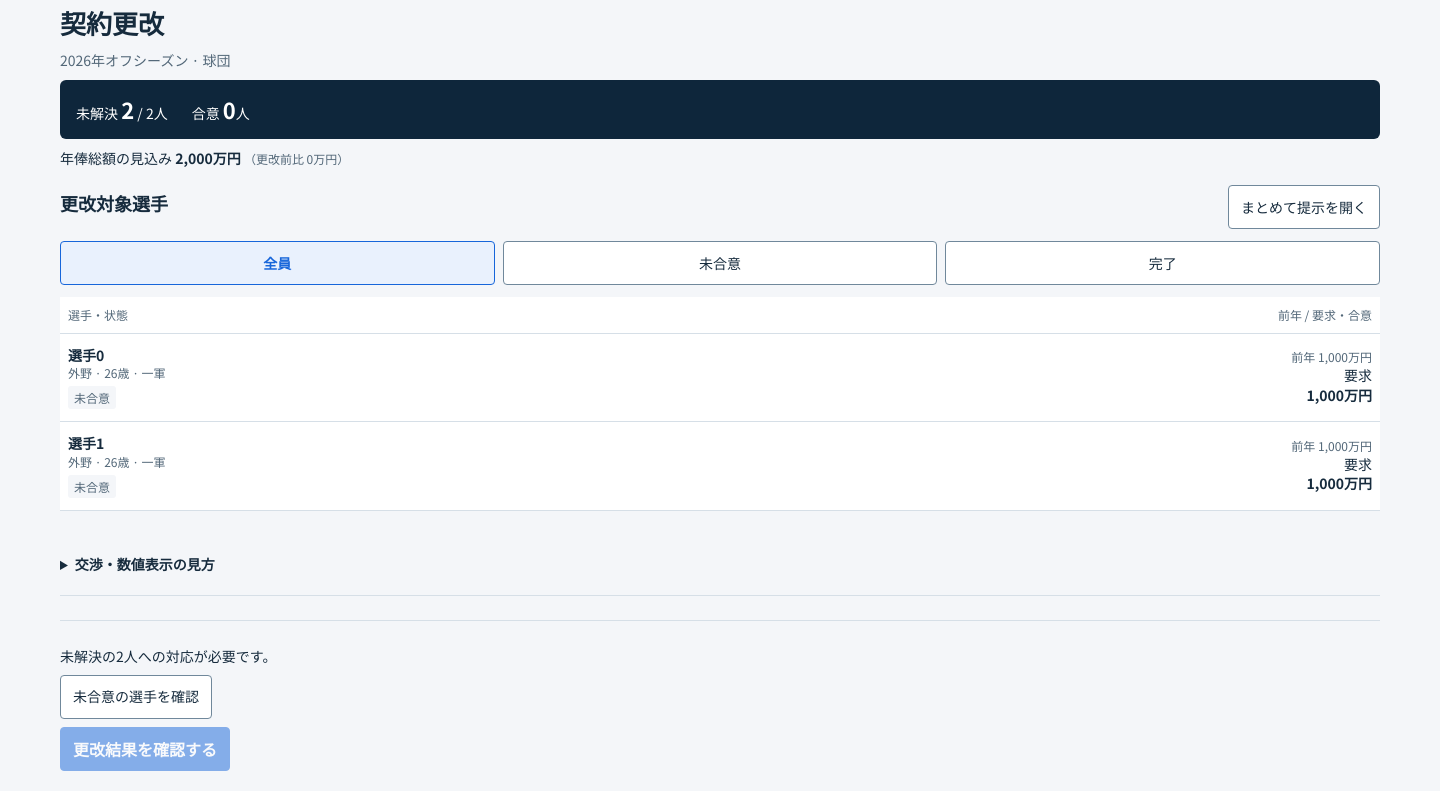
Test: places FA and negotiation explanations after the offer inside disclosures
Click the button "選手0 外野 · 26歳 · 一軍 未合意 前年 1,000万円 要求 1,000万円": click(86, 355) [60, 334, 1380, 421]
(page scrolled)
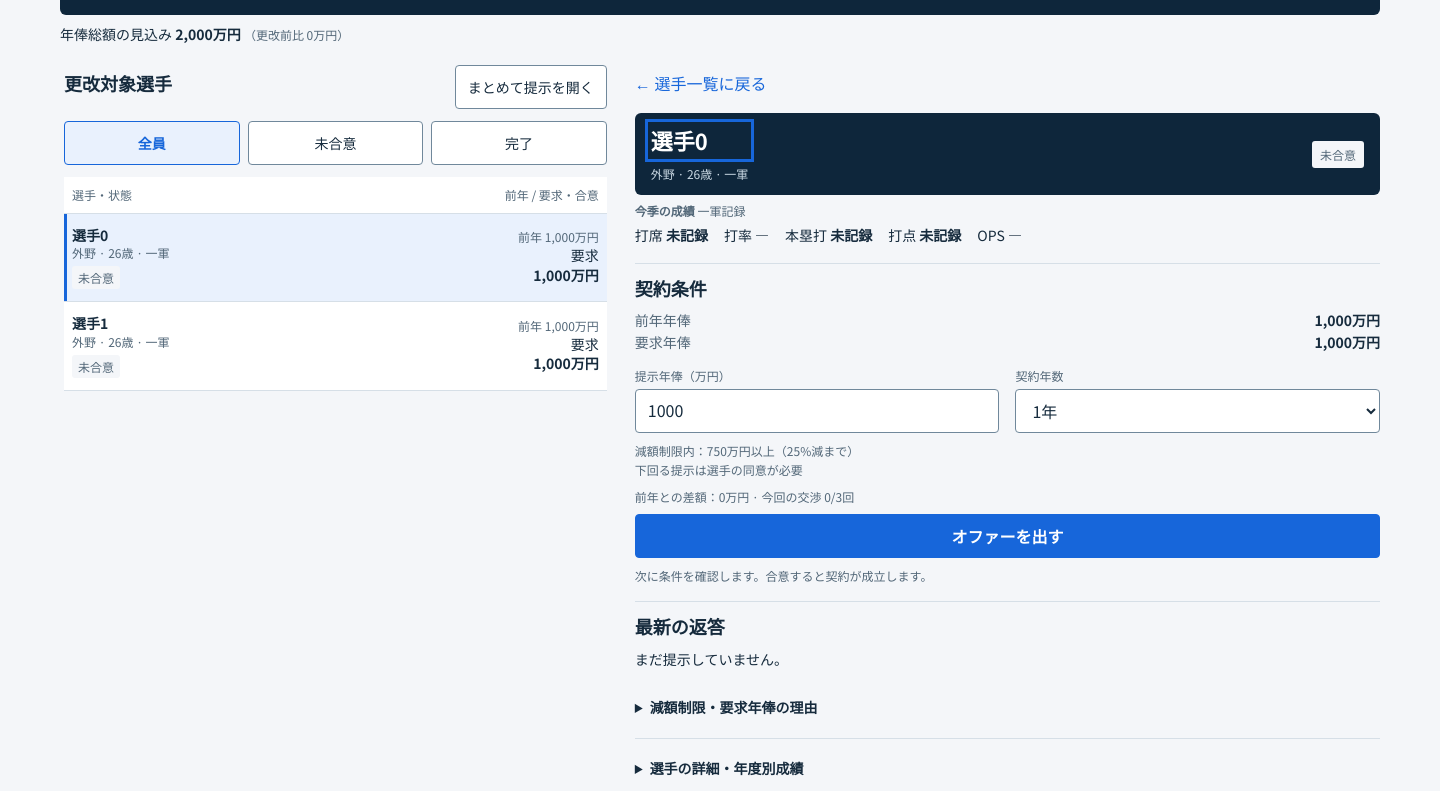
Now the element named "選手との交渉" shows "今季の成績", box [635, 202, 698, 219]
